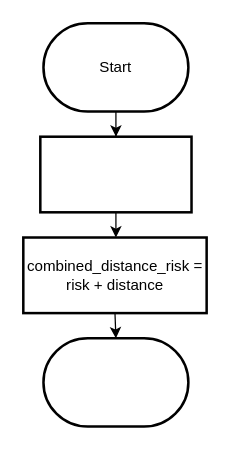
The diagram is 229 pixels wide and 449 high, and some of its shapes have lost their labels. Here are the shapes that lost their labels. From the top down, the centre of each, then its label:
At point 115,174: "risk = get_risk() distance = get_distance()".
At point 115,381: "End".
